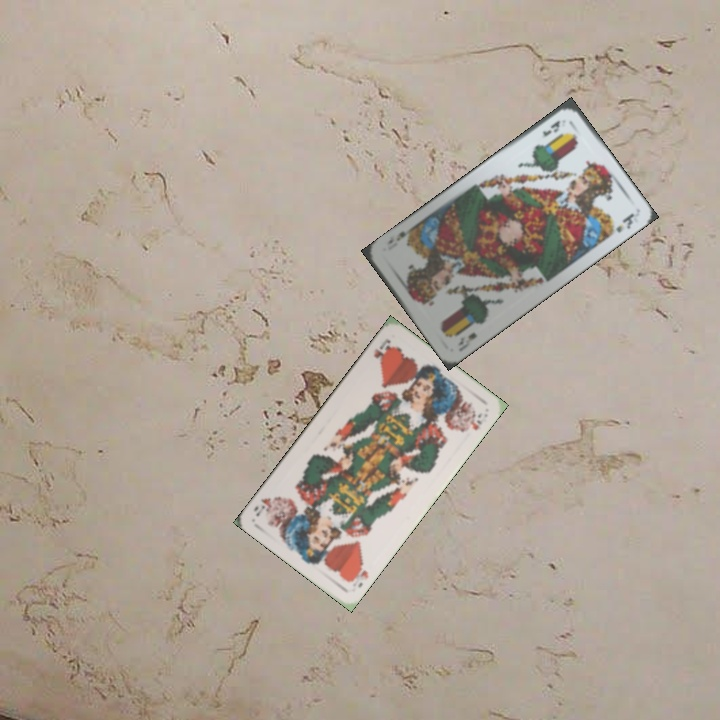EK: (453, 328, 479, 354), (538, 116, 563, 139)
HO: (344, 559, 371, 590), (369, 334, 395, 366)
